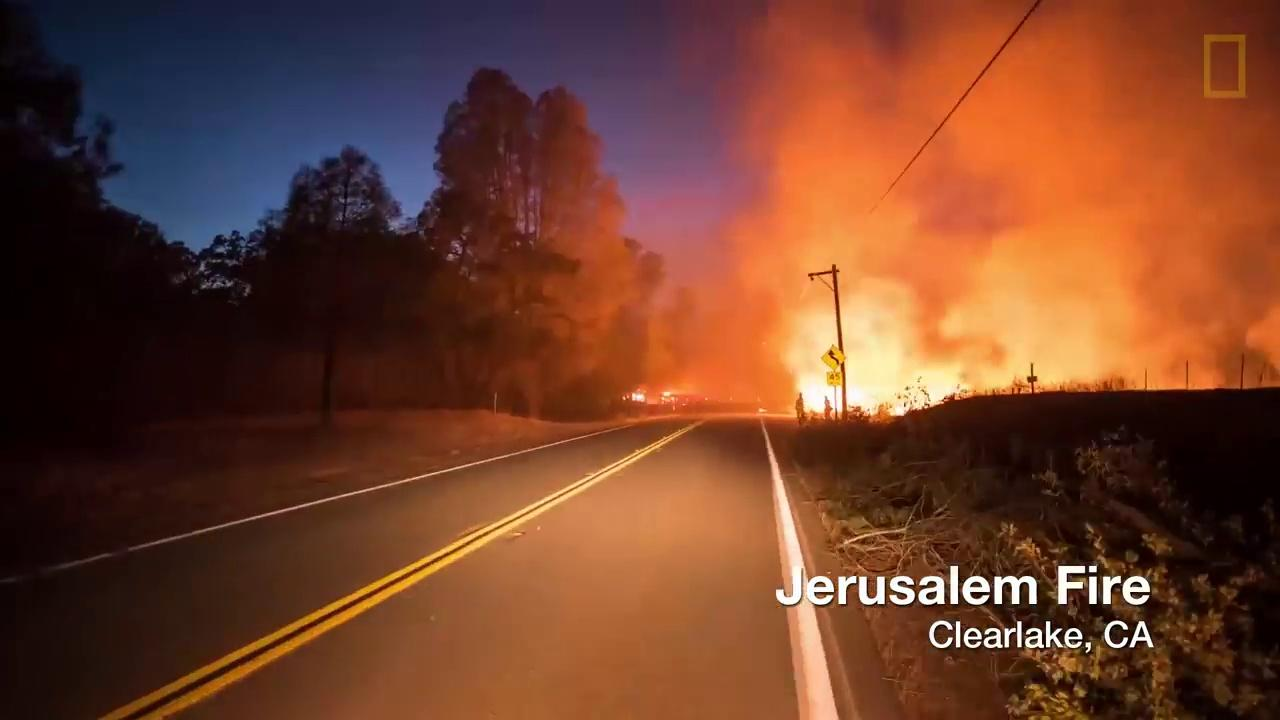Fire: (785, 307, 964, 417), (627, 380, 651, 404), (662, 388, 676, 399)
